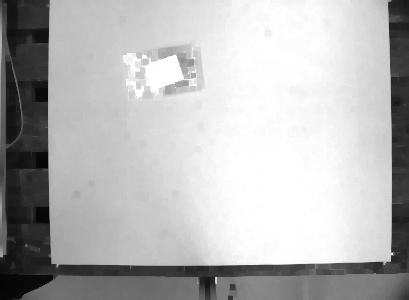t2: (119, 37, 205, 101)
